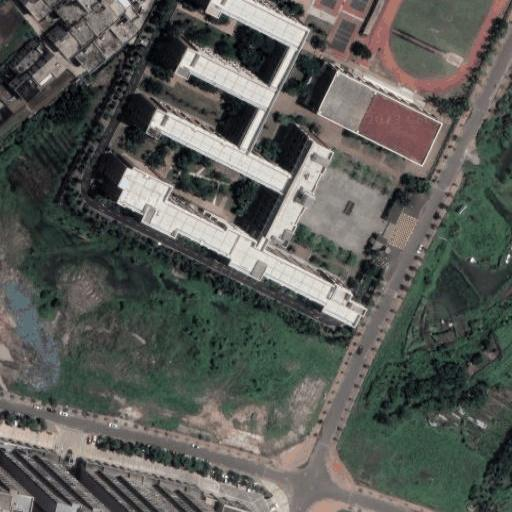building: (118, 167, 367, 326), (144, 109, 291, 194), (317, 70, 442, 166), (175, 46, 277, 154), (205, 0, 310, 92), (266, 139, 331, 247), (85, 471, 205, 512), (1, 452, 63, 499), (81, 0, 115, 36), (75, 41, 107, 76), (12, 44, 45, 77), (53, 28, 83, 61), (34, 55, 65, 86), (94, 29, 124, 61), (67, 18, 96, 48), (385, 190, 410, 224), (111, 15, 137, 43), (15, 75, 41, 102), (21, 0, 50, 22), (124, 5, 138, 20), (373, 235, 387, 249)
